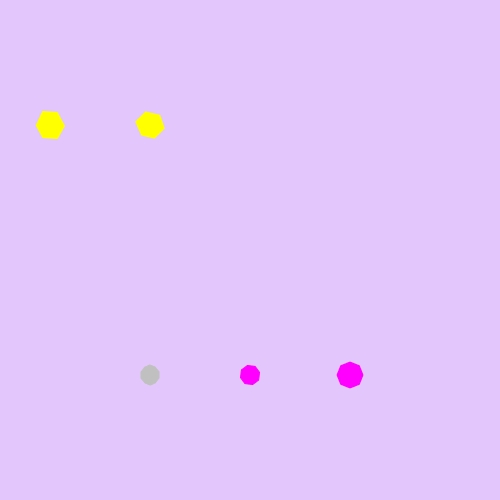decagon: (135, 361, 165, 389)
hexagon: (30, 108, 70, 142), (131, 109, 169, 141)
octagon: (333, 358, 368, 393), (235, 360, 265, 390)
